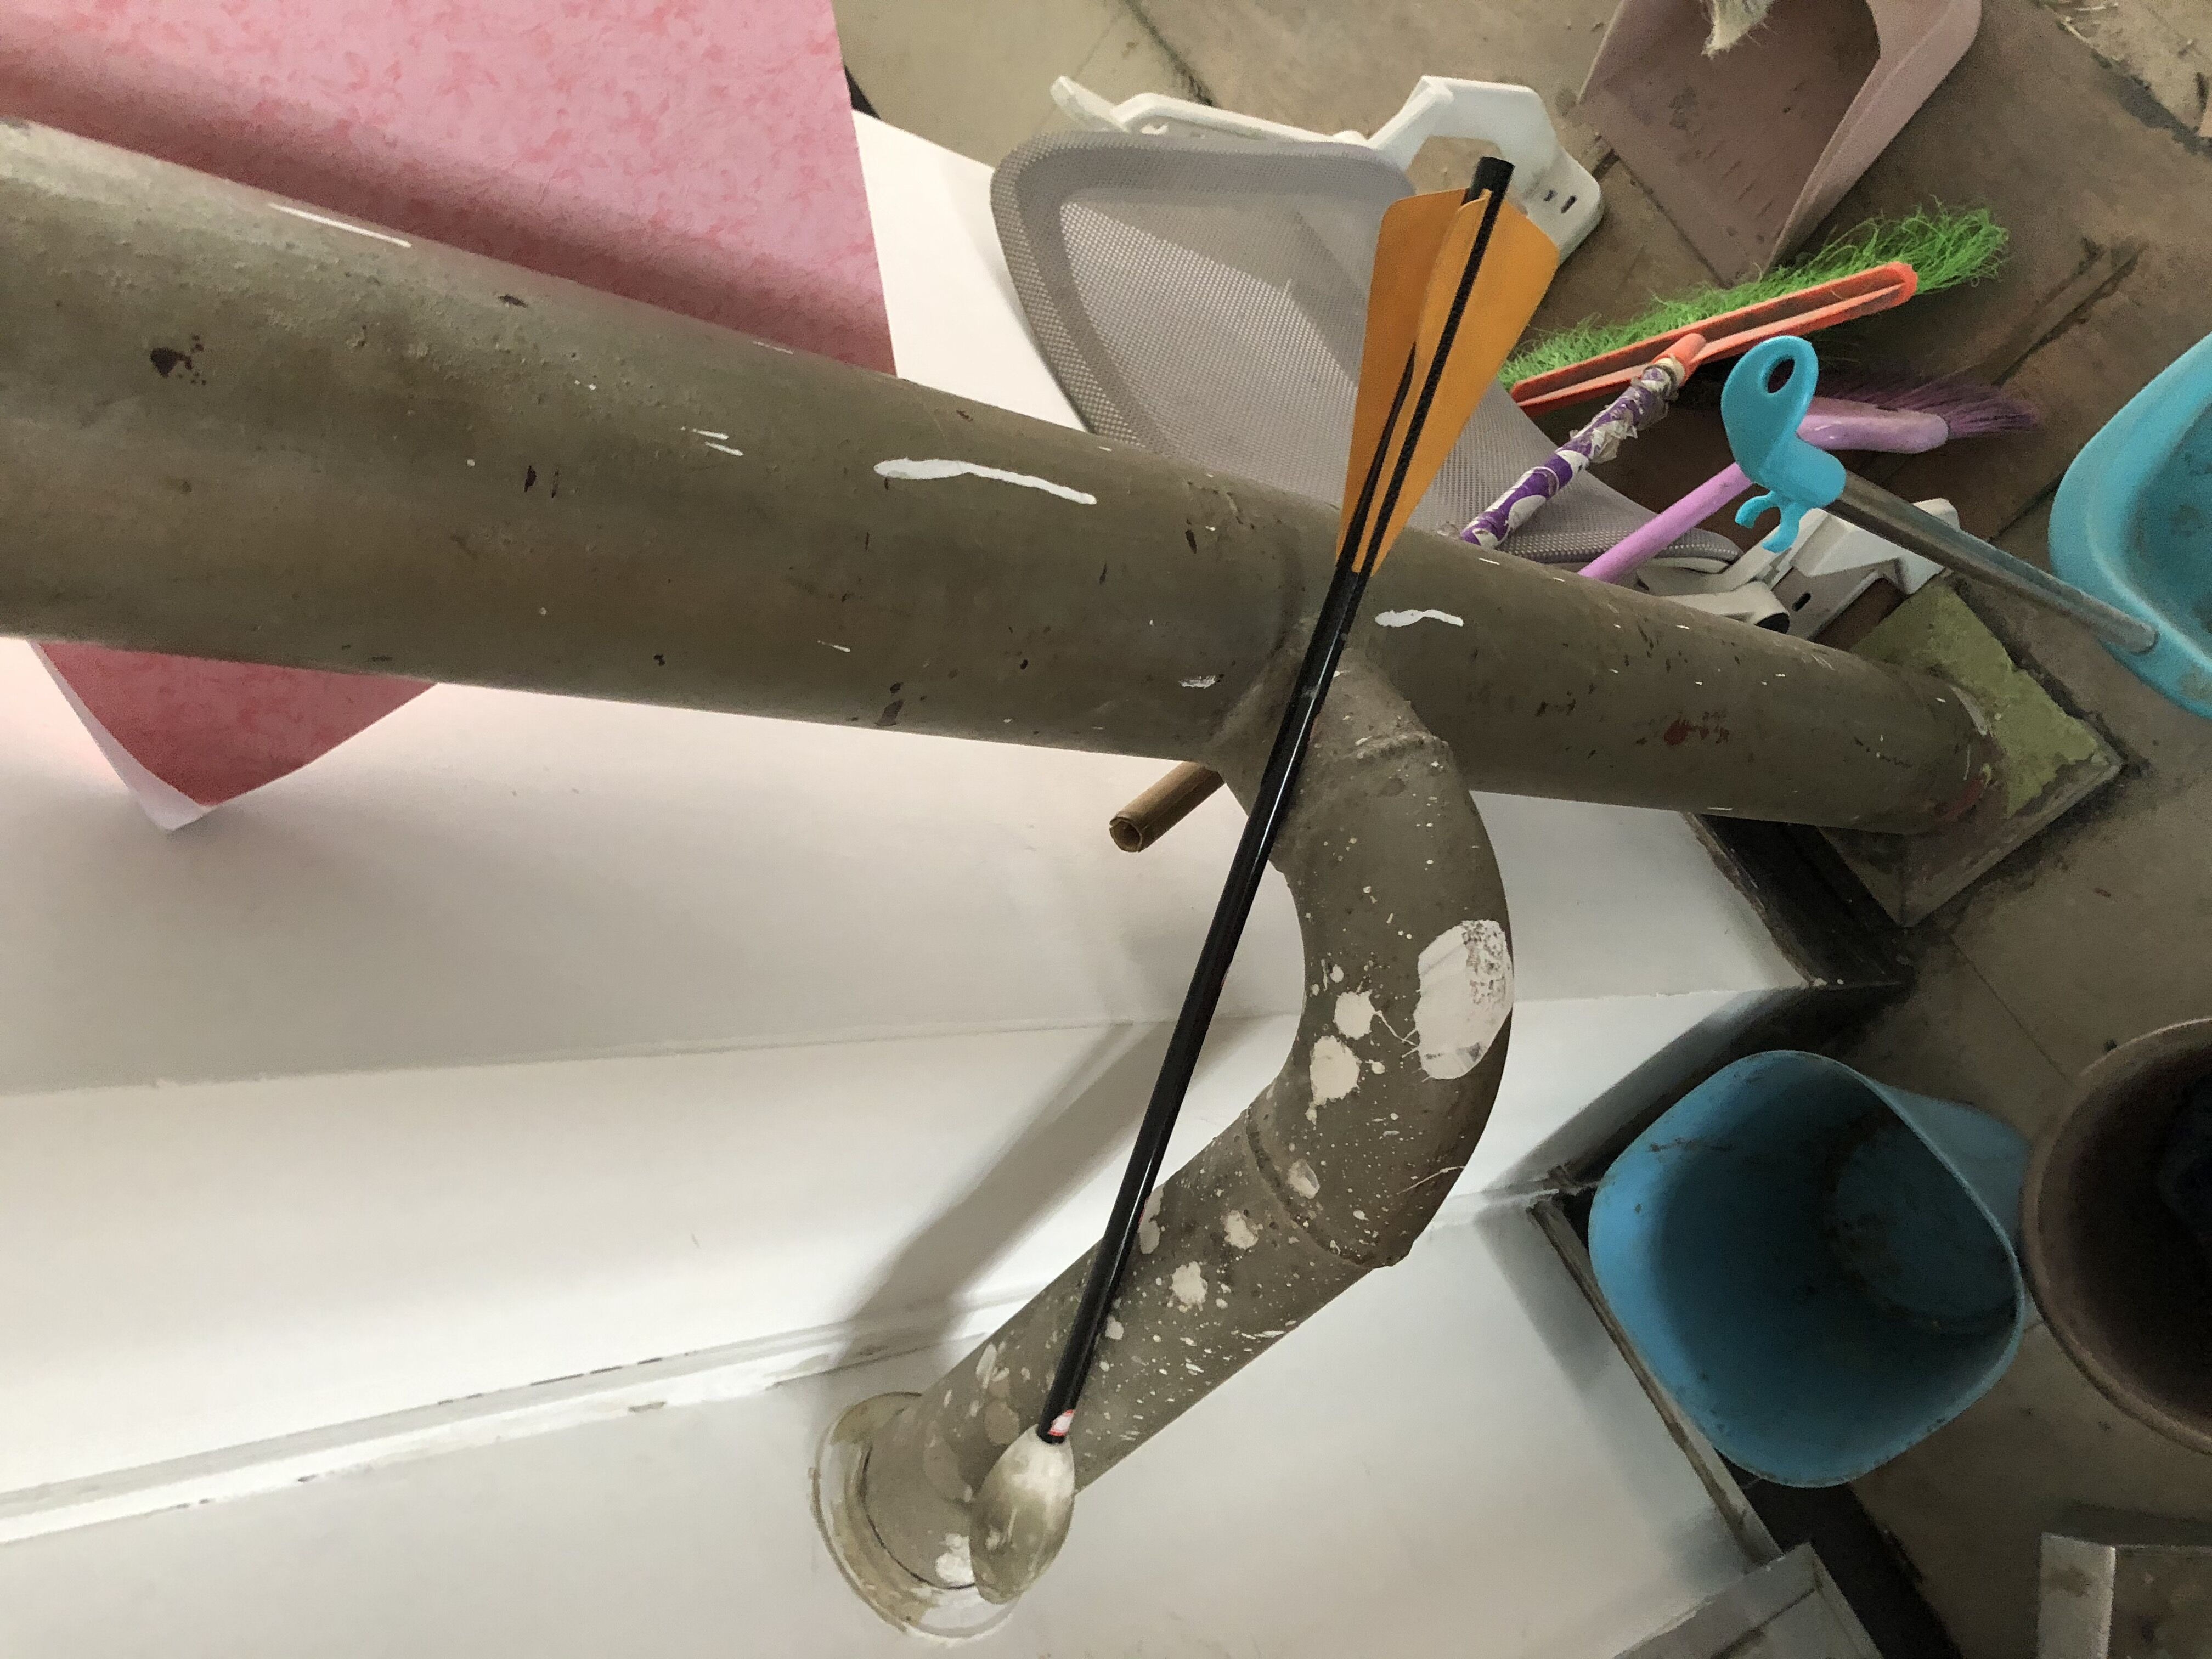arrow: (965, 159, 1561, 1603)
arrowFront: (967, 1419, 1080, 1607)
